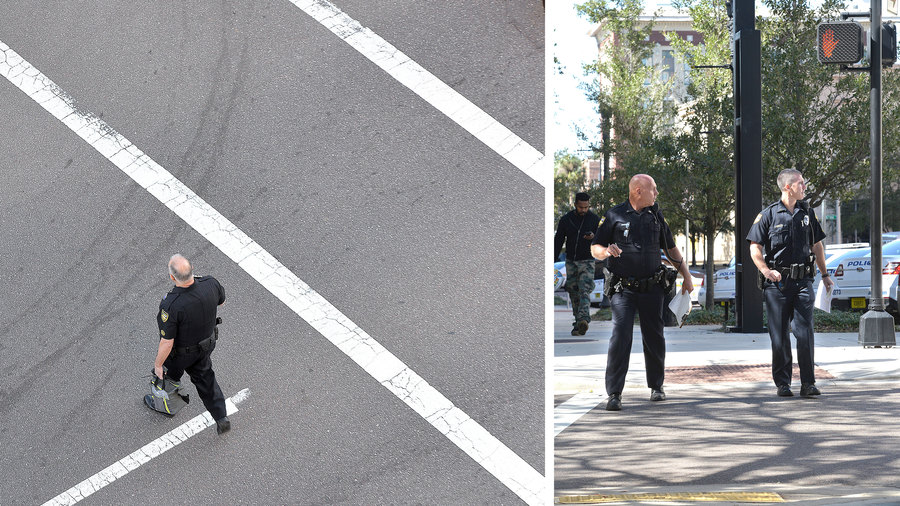pedestrian: (586, 176, 699, 414), (741, 164, 837, 401)
